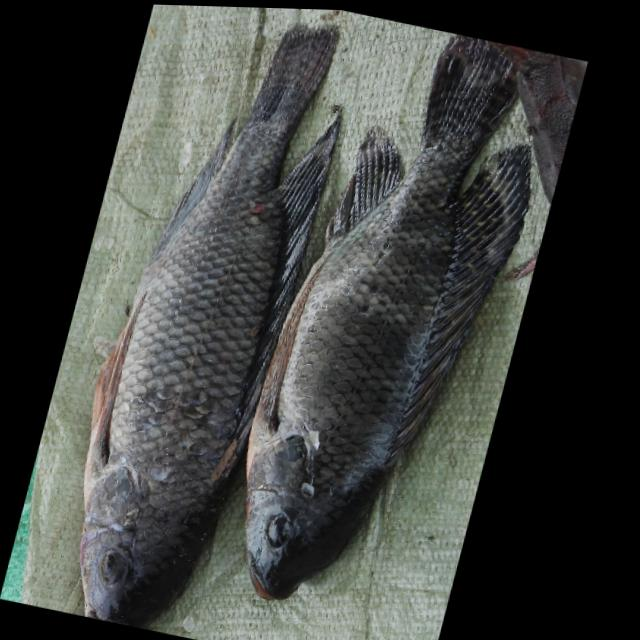Tilapia: (210, 15, 572, 636), (41, 3, 371, 640)
